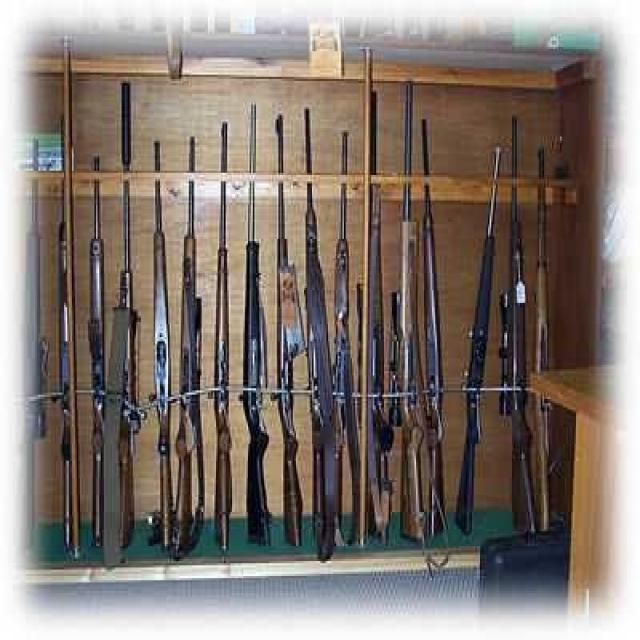weapon: (268, 106, 329, 554), (96, 66, 149, 555), (298, 102, 348, 580), (237, 94, 288, 548), (206, 110, 258, 552), (48, 95, 96, 568), (392, 72, 432, 574), (456, 137, 506, 538), (83, 145, 130, 559), (502, 102, 546, 536), (146, 126, 188, 557), (336, 111, 373, 548), (361, 78, 394, 550), (14, 128, 48, 572), (181, 128, 216, 559), (534, 134, 568, 534), (418, 106, 444, 528)
